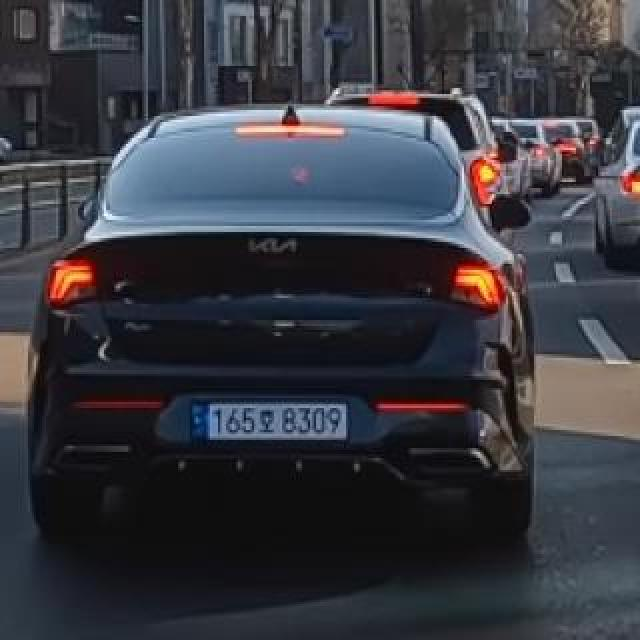car: (28, 94, 536, 556)
illegal_plate: (193, 394, 351, 451)
